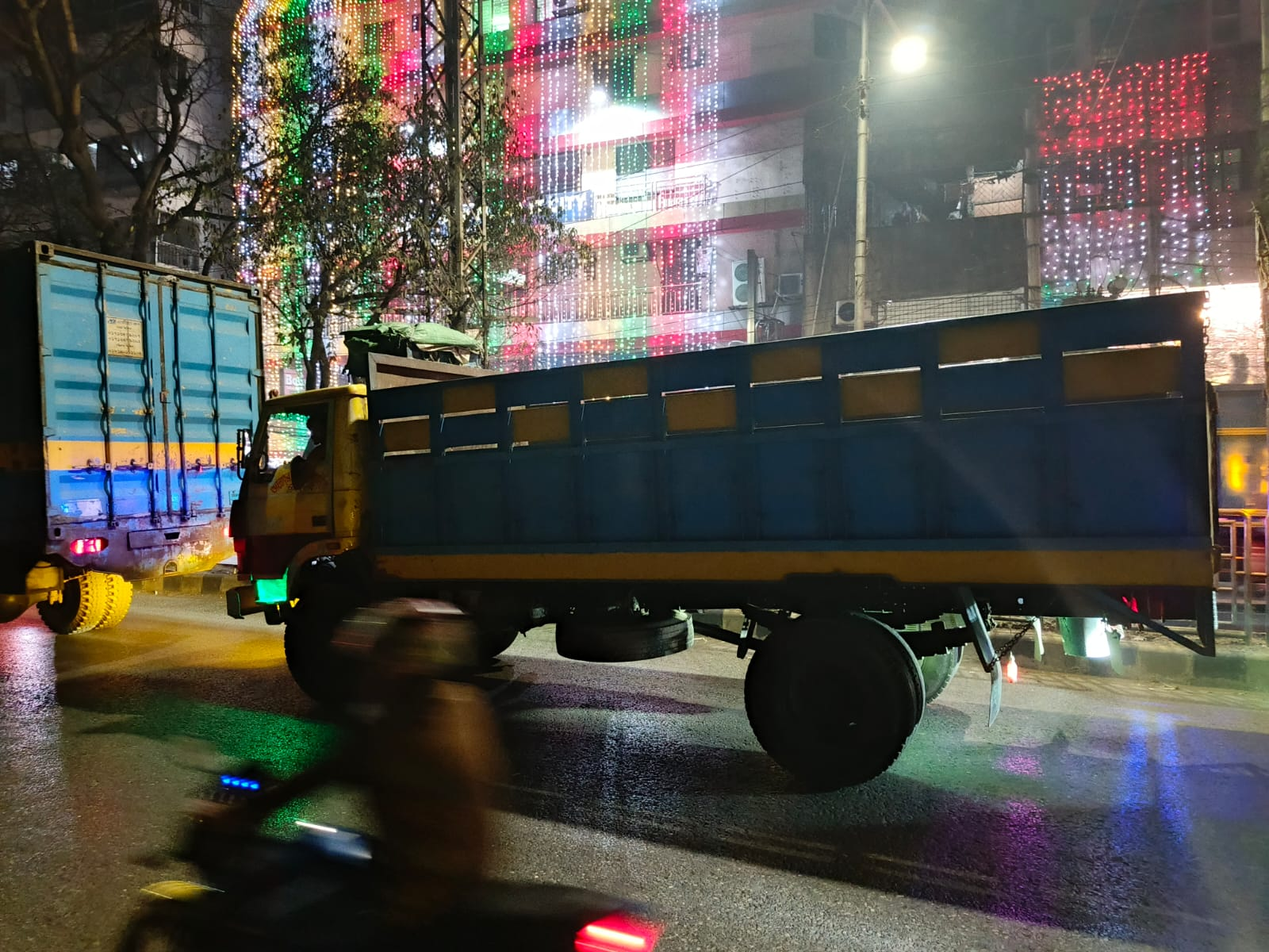Truck: (214, 266, 1269, 840), (4, 217, 305, 681)
